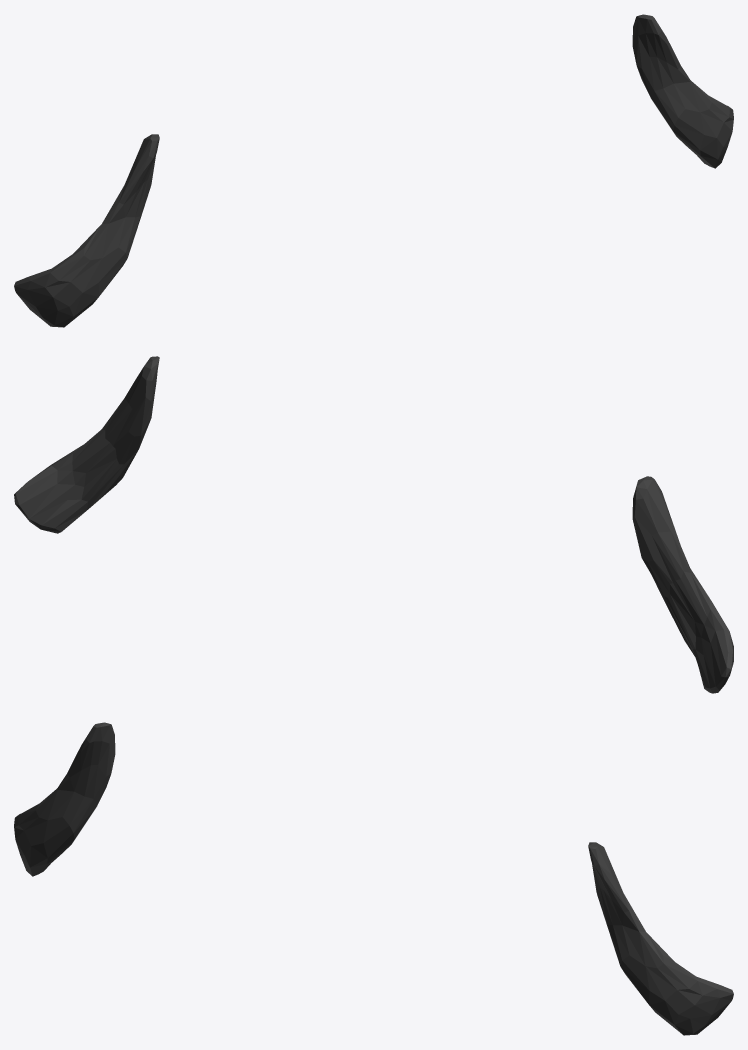
Rendered from lig_talocentrodistometatarsal.glb.
The picture shows the model from 3 angles, top to bottom: view 1: azimuth 30°, elevation 25°; view 2: azimuth 150°, elevation 25°; view 3: azimuth 330°, elevation 25°; orthographic projection.
Parts seen in each view (by area): view 1: lig_talocentrodistometatarsal; view 2: lig_talocentrodistometatarsal; view 3: lig_talocentrodistometatarsal.
Part boxes in pixels (left/top/right/bottom): lig_talocentrodistometatarsal: left=14, top=14, right=733, bottom=327; lig_talocentrodistometatarsal: left=14, top=356, right=733, bottom=693; lig_talocentrodistometatarsal: left=14, top=722, right=733, bottom=1035.
Size of the model in its own units: 0.0053 by 0.00129 by 0.000457.
1 material, 1 textured.
